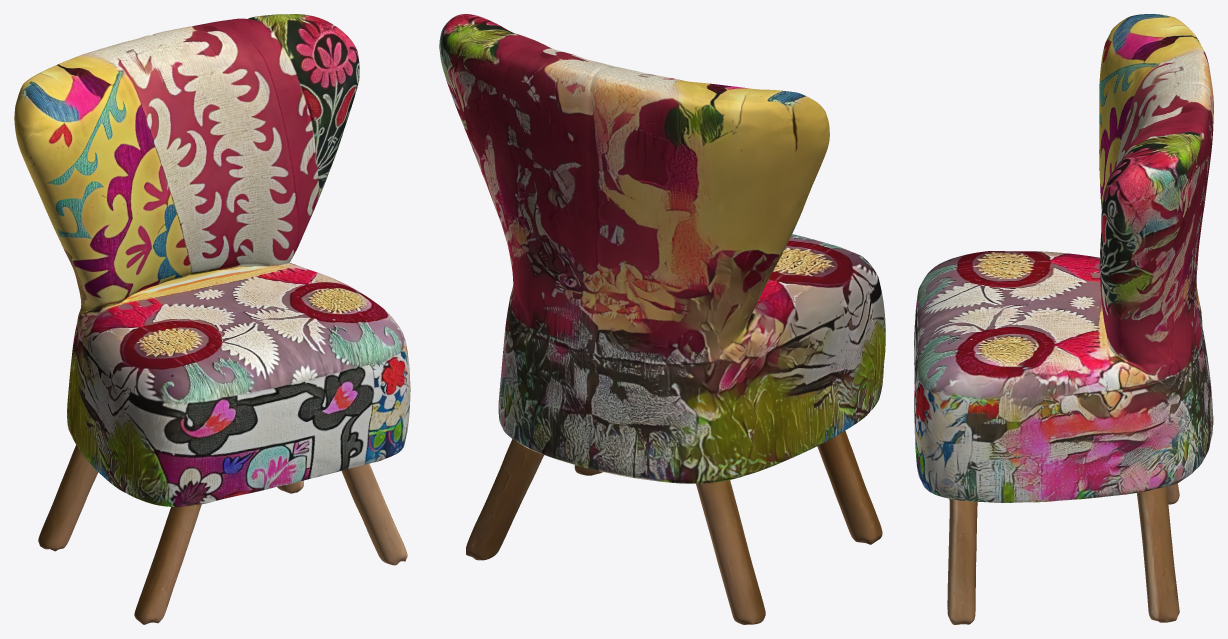
3 views of the same model, side by side, from view 1: azimuth 30°, elevation 25°; view 2: azimuth 150°, elevation 25°; view 3: azimuth 270°, elevation 25° (orthographic). The views are drawn at different scales.
Visible parts, largest first — view 1: model; view 2: model; view 3: model.
Boxes of the visible parts, box(x1,y1,x2,y2) form: model: box(14, 14, 410, 624); model: box(439, 14, 885, 624); model: box(914, 14, 1213, 624).
Bounding box in the file's own units: 0.6935 × 0.93 × 0.5285.
1 material, 1 textured.
